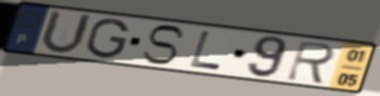9: (245, 35, 290, 80)
G: (84, 17, 132, 59)
L: (187, 29, 223, 72)
R: (284, 39, 339, 87)
S: (139, 24, 188, 67)
U: (37, 8, 94, 56)
